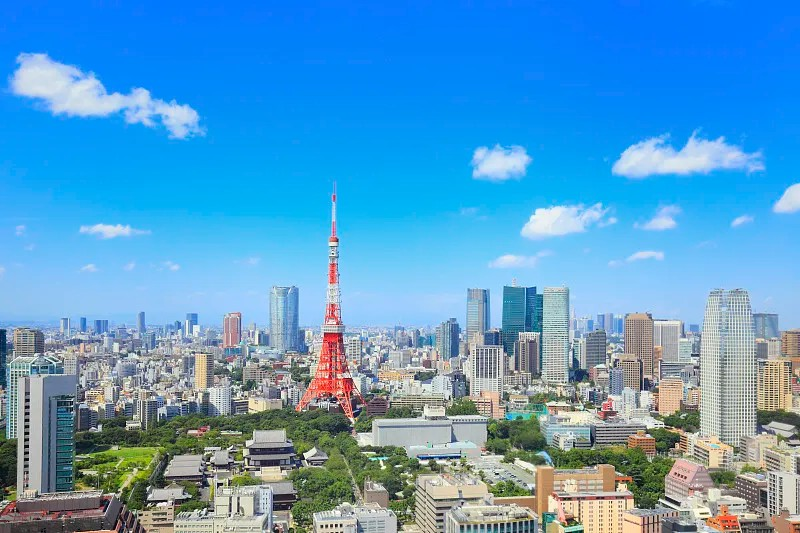Tokyo: (294, 177, 372, 425)
